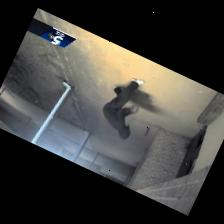person: (102, 78, 143, 138)
